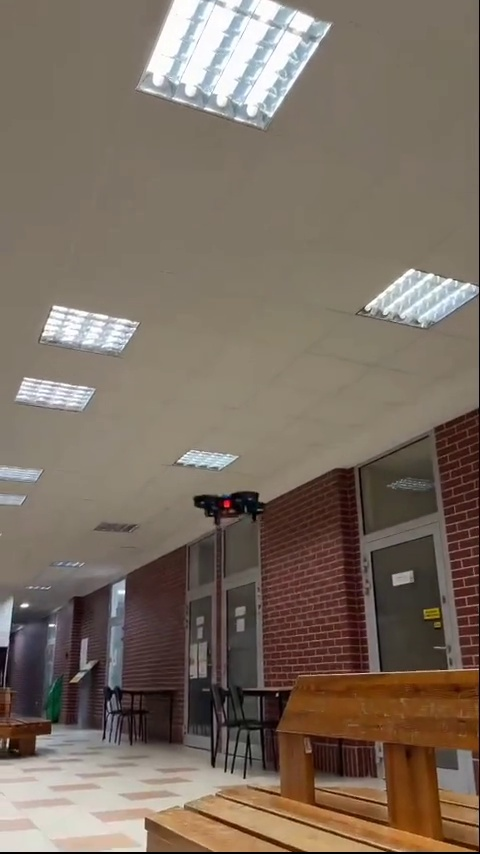drone: (195, 488, 276, 526)
